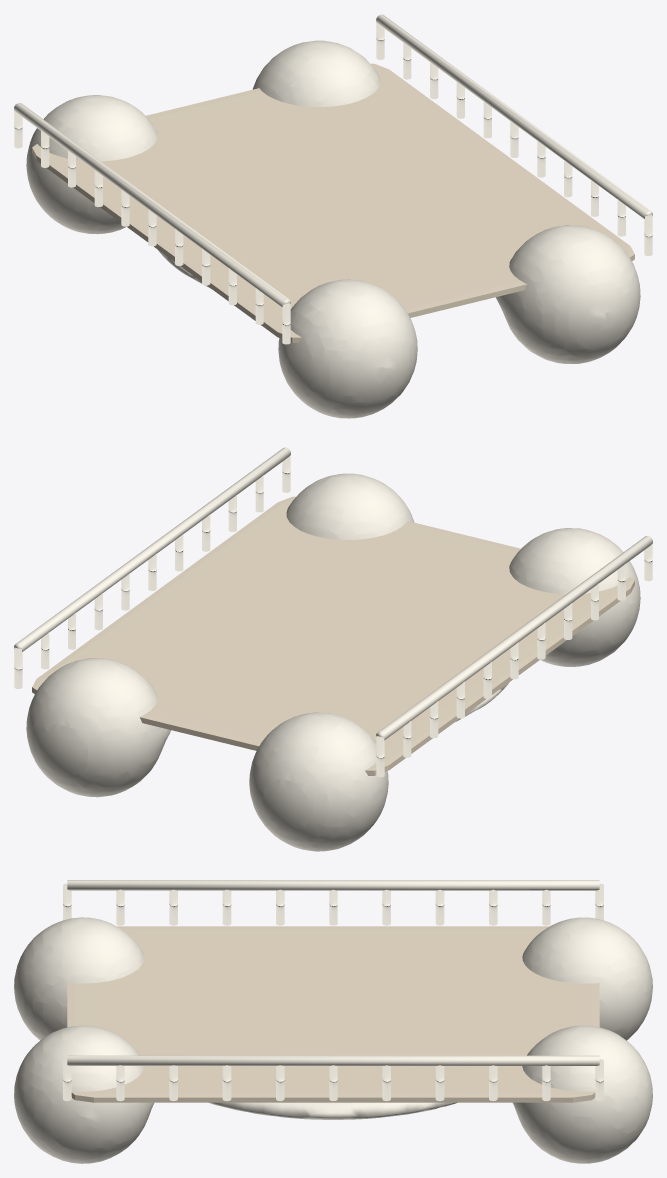
File: T09_Bone_Bridge.glb
3 views of the same model, one above another, from view 1: azimuth 30°, elevation 25°; view 2: azimuth 150°, elevation 25°; view 3: azimuth 270°, elevation 25° (orthographic).
Parts seen in each view (by area): view 1: T09_Bone_Bridge_Mesh; view 2: T09_Bone_Bridge_Mesh; view 3: T09_Bone_Bridge_Mesh.
Boxes of the visible parts, left/top/right/bottom form: T09_Bone_Bridge_Mesh: left=14, top=14, right=652, bottom=418; T09_Bone_Bridge_Mesh: left=14, top=447, right=652, bottom=851; T09_Bone_Bridge_Mesh: left=14, top=880, right=652, bottom=1163.
Size of the model in its own units: 7.99 by 2.8 by 12.
